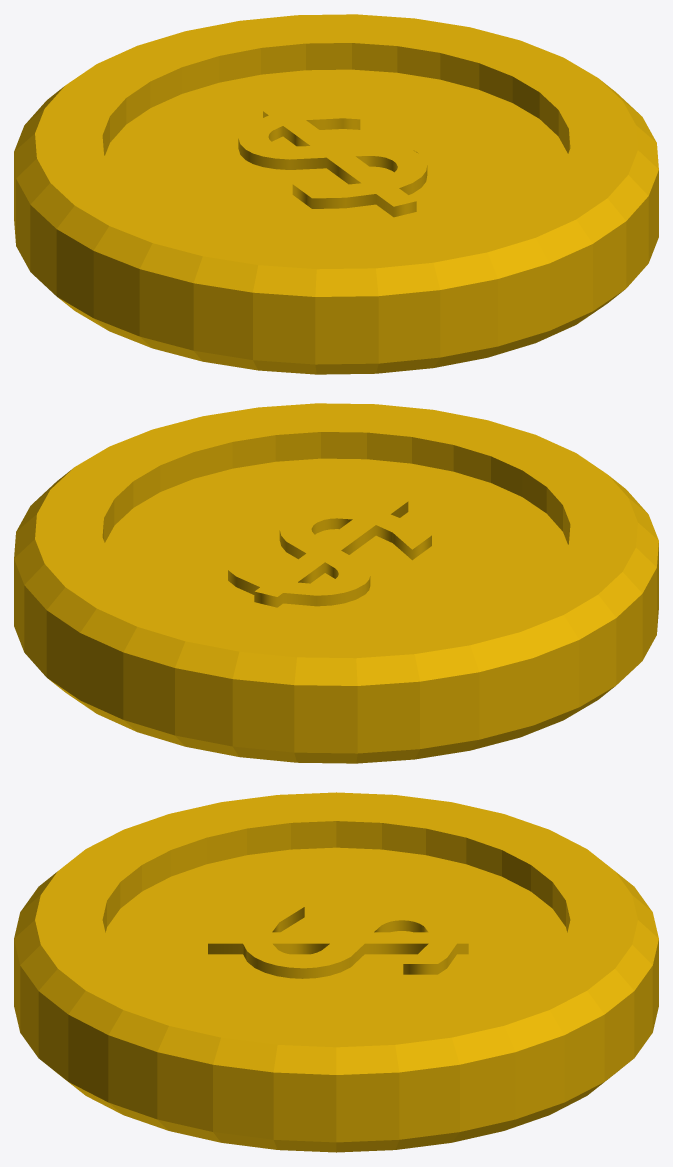
File: coin_new.glb
3 renders of one model, top to bottom at view 1: azimuth 30°, elevation 25°; view 2: azimuth 150°, elevation 25°; view 3: azimuth 270°, elevation 25°, orthographic.
Visible parts, largest first — view 1: Coin_New; view 2: Coin_New; view 3: Coin_New.
Boxes of the visible parts, <box> form: Coin_New: <box>14,14,658,374</box>; Coin_New: <box>14,403,658,763</box>; Coin_New: <box>14,792,658,1152</box>.
Bounding box in the file's own units: 2 × 0.3599 × 2.
